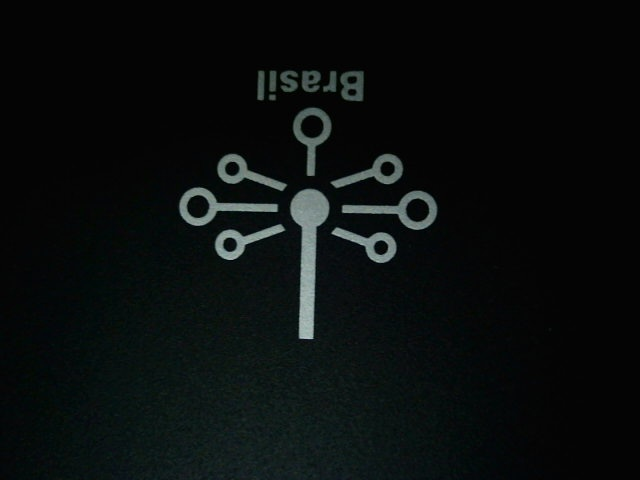BG_Brasil: (150, 46, 450, 352)
